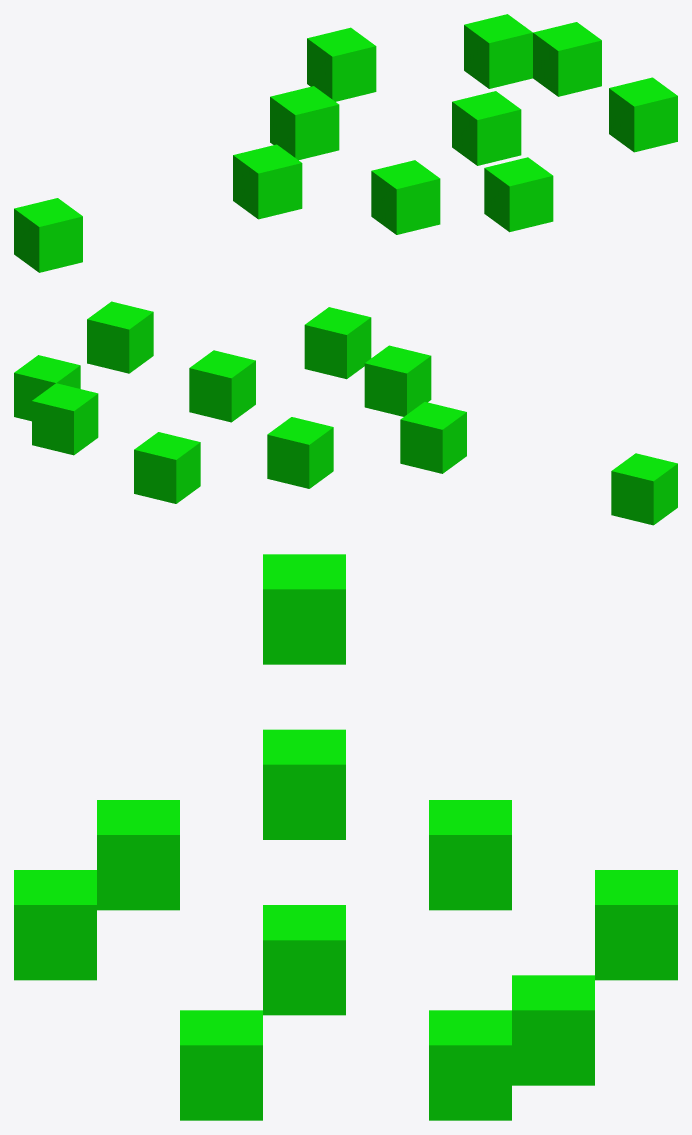
File: wuerfeltest2.gltf
3 renders of one model, top to bottom at view 1: azimuth 30°, elevation 25°; view 2: azimuth 150°, elevation 25°; view 3: azimuth 270°, elevation 25°, orthographic. The views are drawn at different scales.
Visible parts, largest first — view 1: wuerfeltest2; view 2: wuerfeltest2; view 3: wuerfeltest2.
Part boxes in pixels (bbox=[...]): wuerfeltest2: bbox=[14, 14, 677, 272]; wuerfeltest2: bbox=[14, 301, 677, 525]; wuerfeltest2: bbox=[14, 554, 677, 1120].
Size of the model in its own units: 14 by 1 by 8.
1 material, 1 textured.
